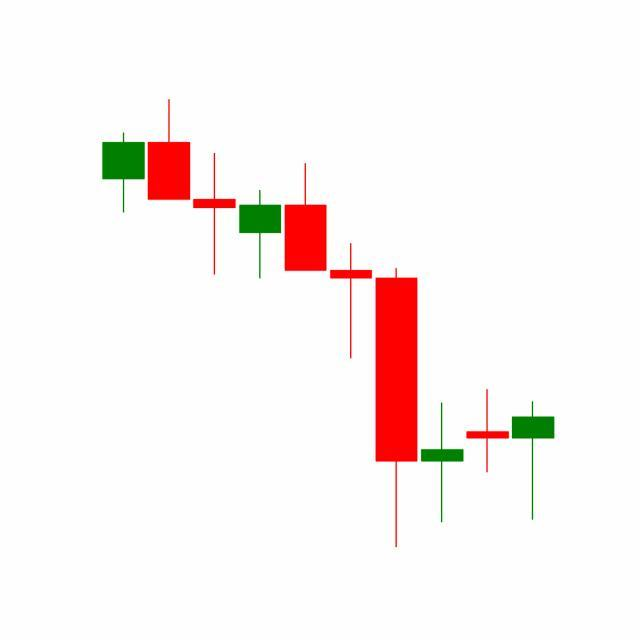Hikkake Pattern: (283, 160, 512, 549)
